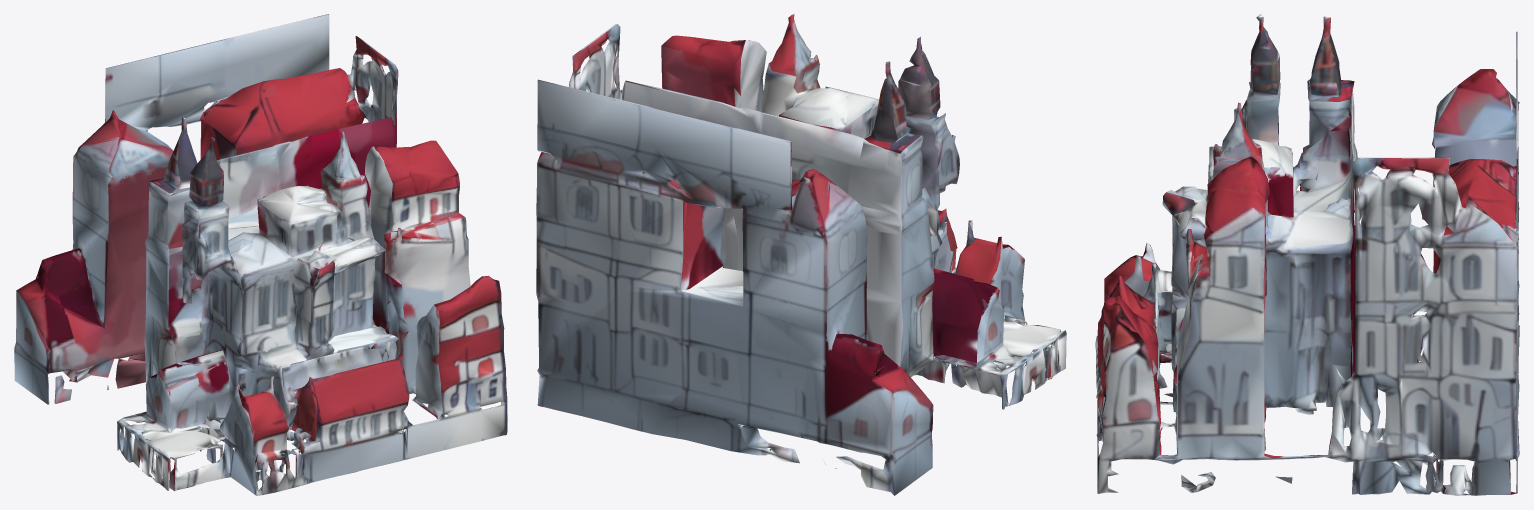
Rendered from bolt_sanctum.glb.
3 renders of one model, left to right at view 1: azimuth 30°, elevation 25°; view 2: azimuth 150°, elevation 25°; view 3: azimuth 270°, elevation 25°, orthographic. The views are drawn at different scales.
Parts seen in each view (by area): view 1: LP_baked; view 2: LP_baked; view 3: LP_baked.
Boxes of the visible parts, x1,y1,x2,y2 form: LP_baked: (14,14,507,495); LP_baked: (536,14,1066,495); LP_baked: (1095,14,1519,495).
Bounding box in the file's own units: 1.96 × 1.79 × 1.95.
1 material, 1 textured.
